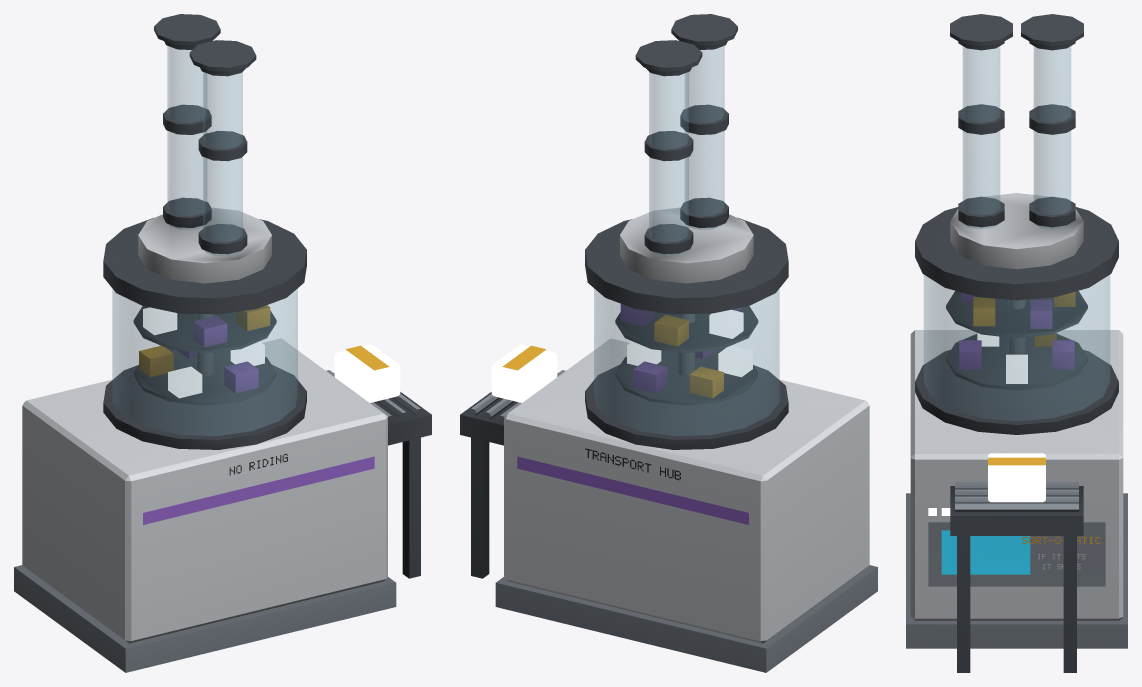
The model's file is transport_hub_m.glb.
The picture shows the model from 3 angles, left to right: view 1: azimuth 30°, elevation 25°; view 2: azimuth 150°, elevation 25°; view 3: azimuth 270°, elevation 25°; orthographic projection.
Visible parts, largest first — view 1: Interior; view 2: Interior; view 3: Interior.
Boxes of the visible parts, bbox=[...] form: Interior: bbox=[14, 14, 431, 672]; Interior: bbox=[460, 14, 877, 672]; Interior: bbox=[906, 14, 1127, 672].
Size of the model in its own units: 1.7 by 2.76 by 1.
